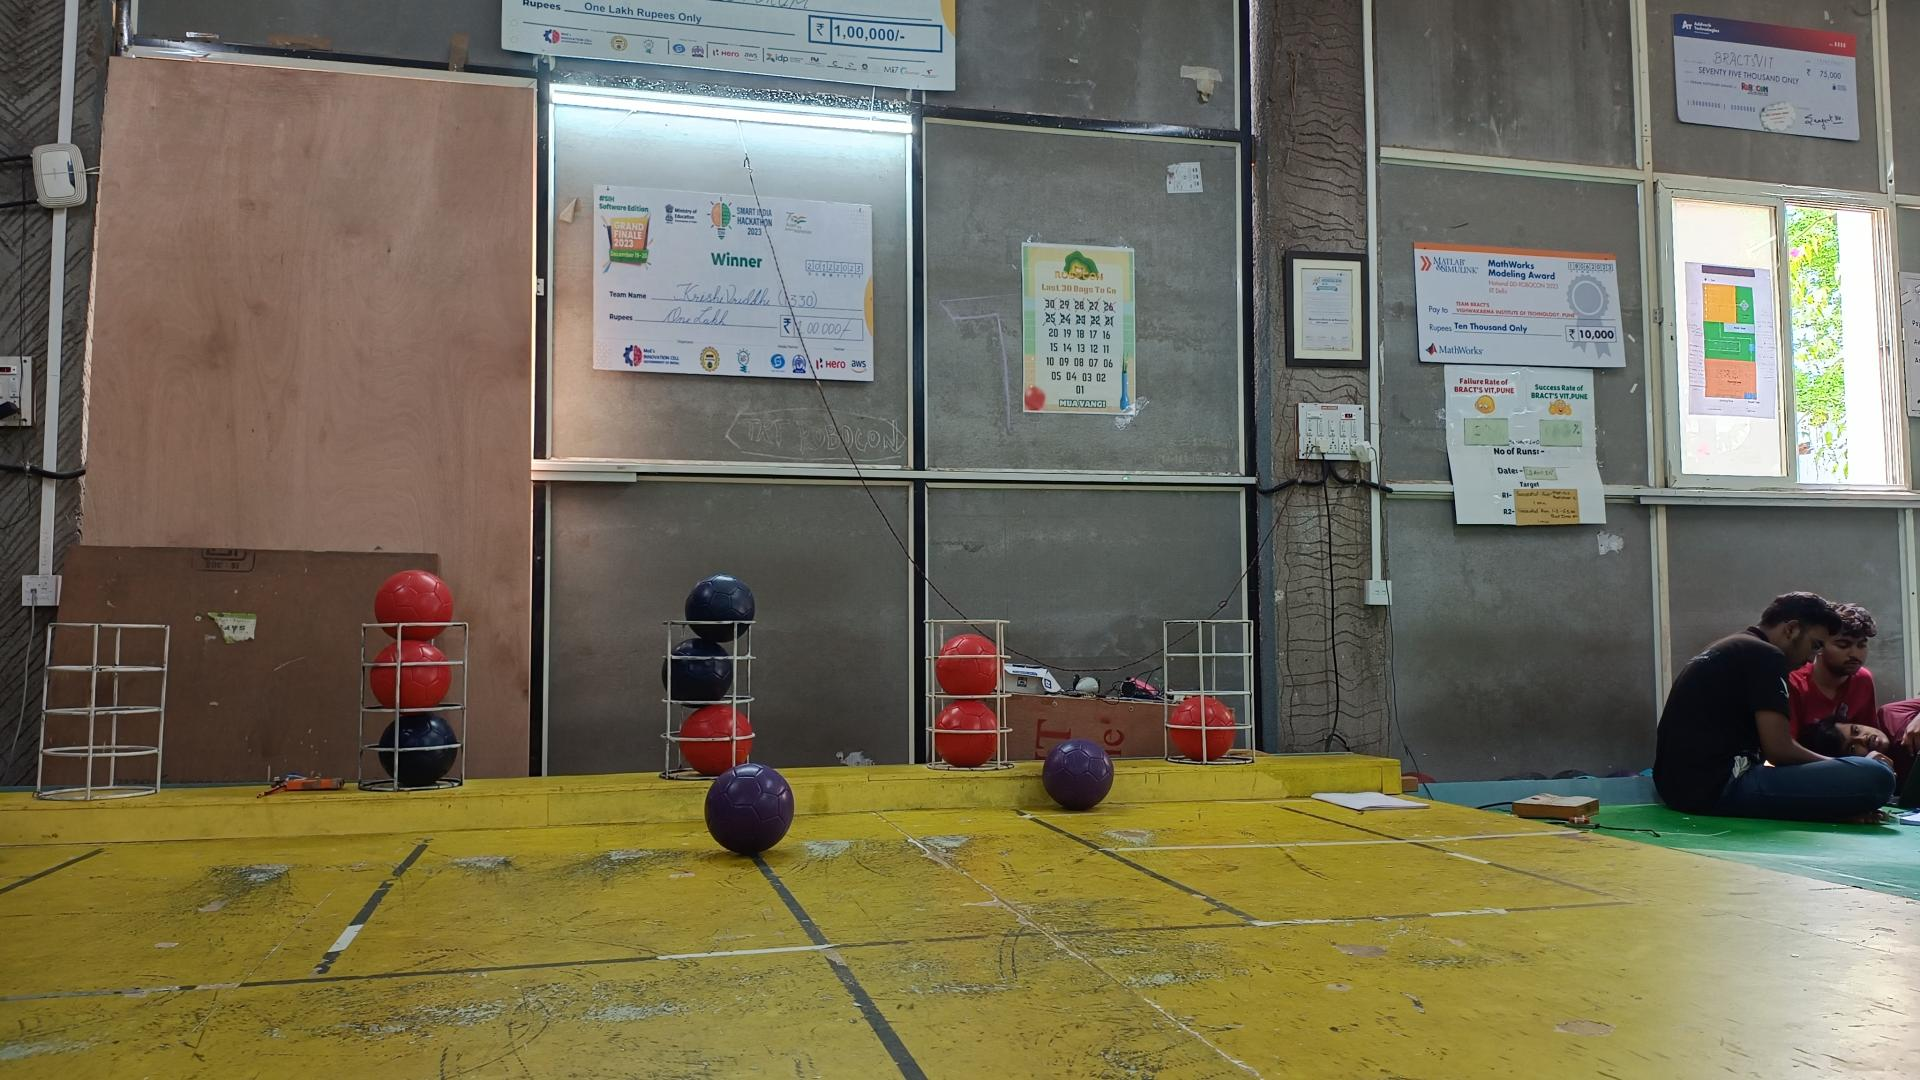dhoka: (378, 712, 458, 787), (686, 574, 754, 641), (663, 637, 735, 702)
laale: (375, 570, 454, 641), (368, 641, 450, 708), (679, 705, 754, 777), (1170, 694, 1234, 761), (934, 702, 997, 769), (934, 634, 997, 694)
